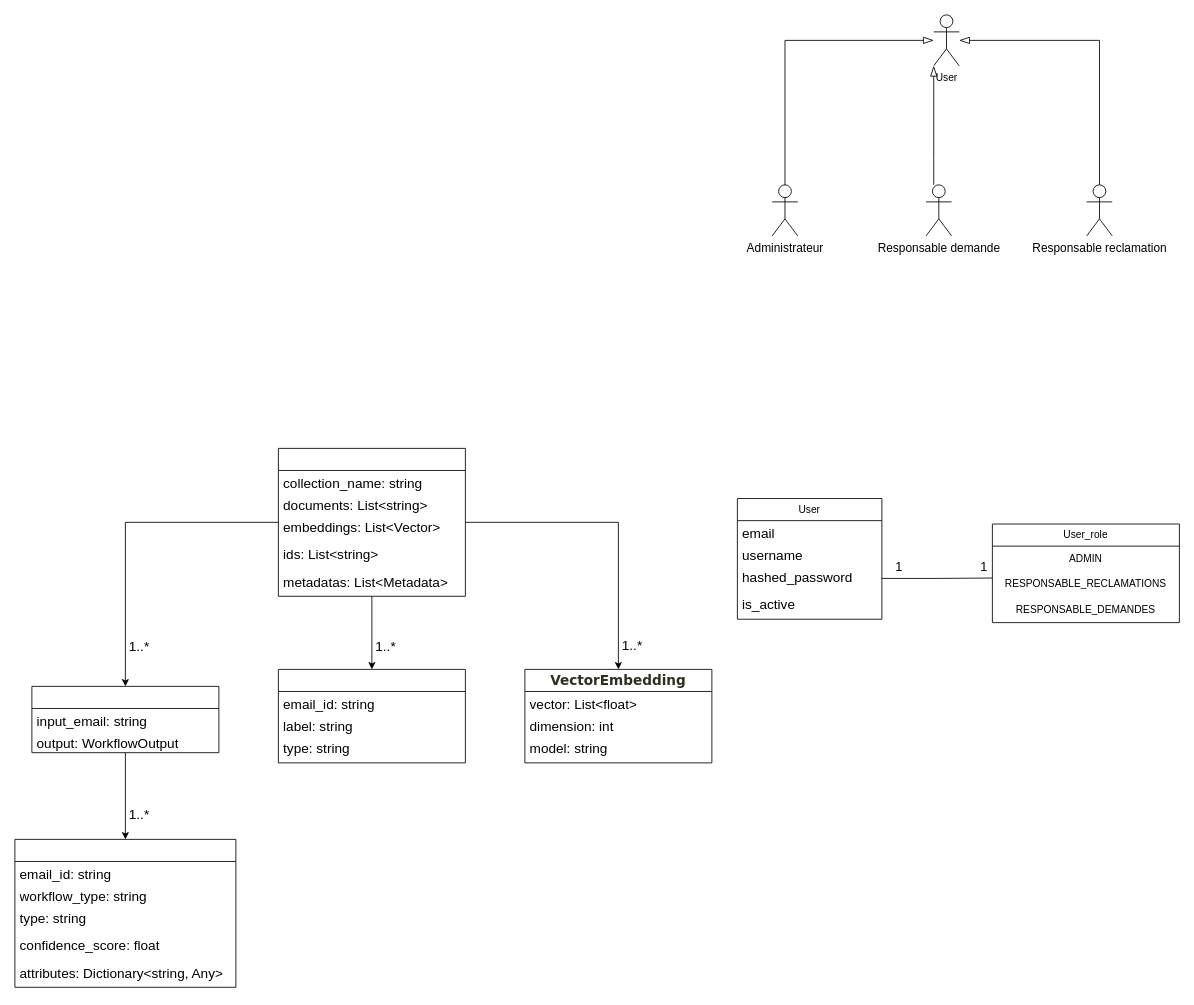
The diagram is 1194 pixels wide and 1005 high, and some of its shapes have lost their labels. The box of each missing label's shape, as (x1, y1, x2, y2) in pixels:
ChromaCollection: (278, 448, 465, 596)
EmailDocument: (31, 686, 219, 753)
Metadata: (278, 669, 465, 763)
WorkflowOutput: (14, 839, 236, 987)
